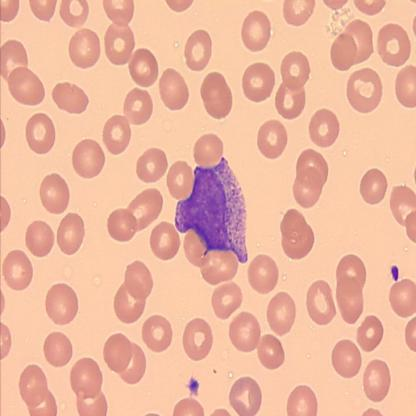Myelocyte: (177, 159, 249, 265)
